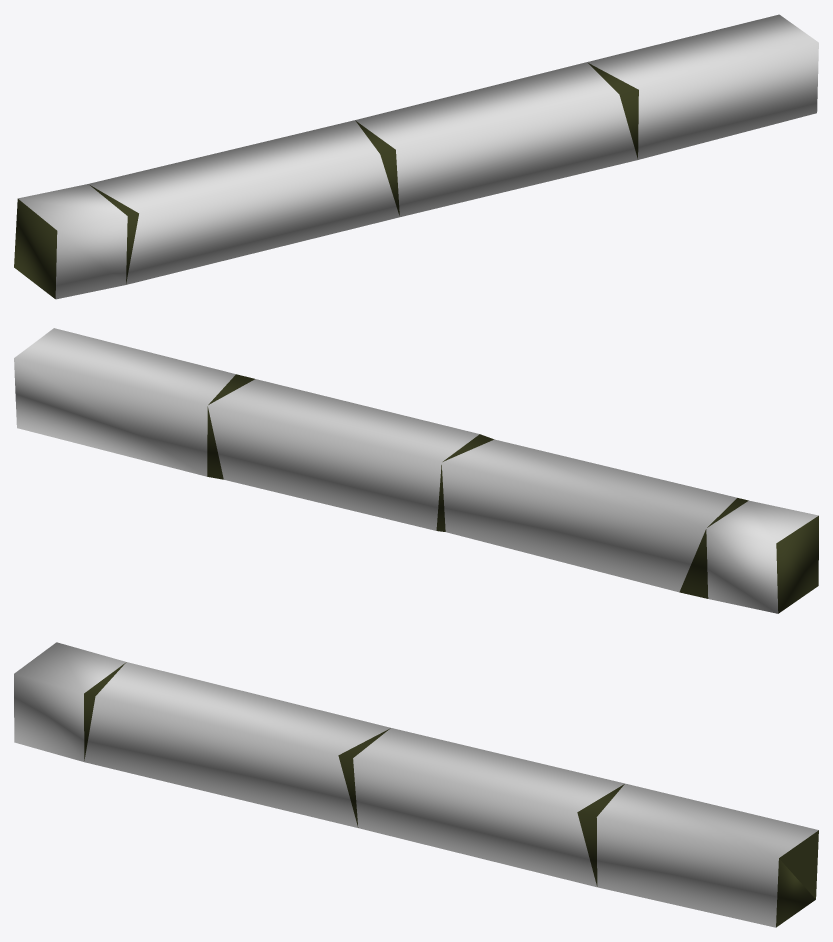
The model's file is bamboo_chairSeat.glb.
The picture shows the model from 3 angles, top to bottom: view 1: azimuth 30°, elevation 25°; view 2: azimuth 150°, elevation 25°; view 3: azimuth 330°, elevation 25°; orthographic projection.
Visible parts, largest first — view 1: bambooBranch.009; view 2: bambooBranch.009; view 3: bambooBranch.009.
Boxes of the visible parts, x1,y1,x2,y2 form: bambooBranch.009: (14, 14, 818, 299); bambooBranch.009: (14, 328, 818, 613); bambooBranch.009: (14, 642, 818, 927).
Size of the model in its own units: 0.4299 by 0.0396 by 0.0412.
